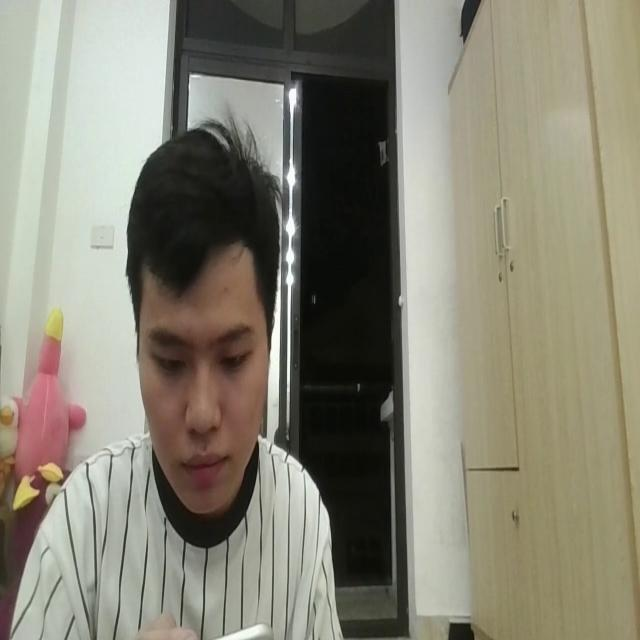student: (4, 120, 340, 640)
